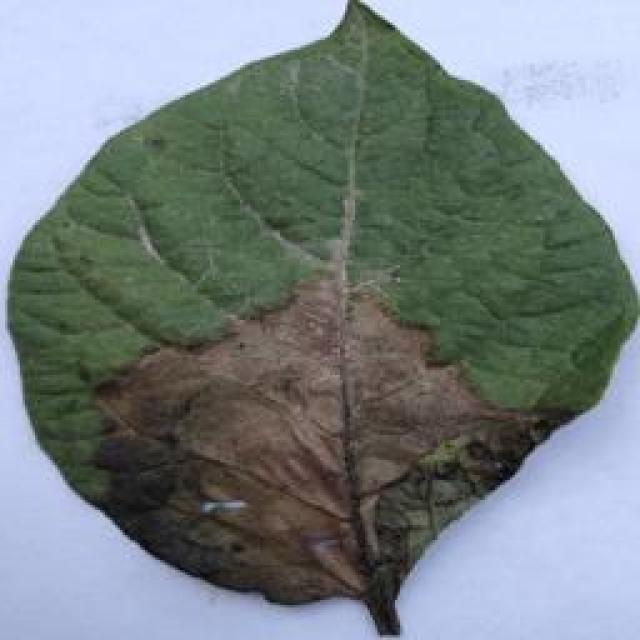Potato_Late_Blight: (5, 6, 637, 635)
